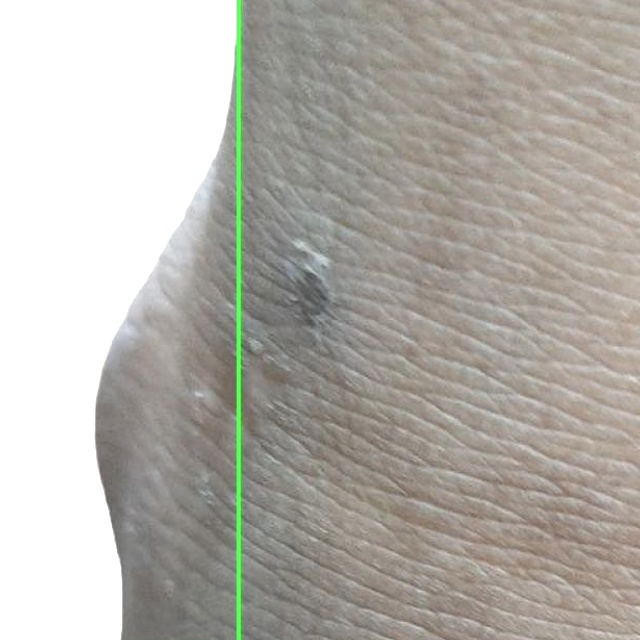Scabies: (0, 0, 238, 639)
